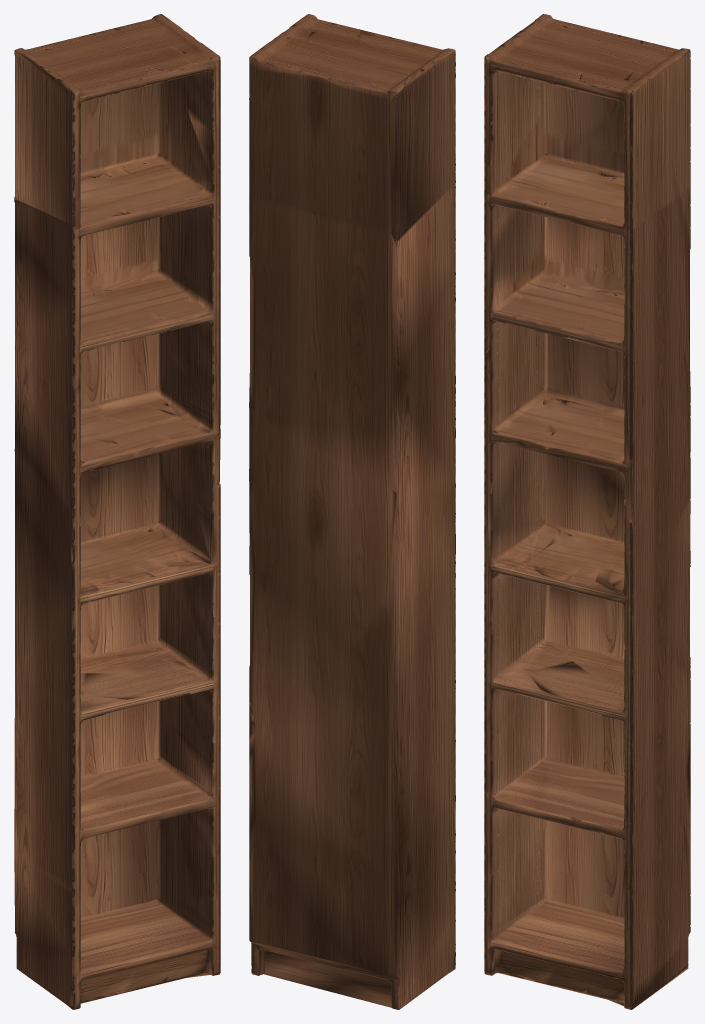
Rendered from meshy-ikea-09581891.glb.
3 renders of one model, left to right at view 1: azimuth 30°, elevation 25°; view 2: azimuth 150°, elevation 25°; view 3: azimuth 330°, elevation 25°, orthographic.
Visible parts, largest first — view 1: Exact catalog scale: ikea-09581891; view 2: Exact catalog scale: ikea-09581891; view 3: Exact catalog scale: ikea-09581891.
Part boxes in pixels (x1,y1,x2,y2): Exact catalog scale: ikea-09581891: [14, 14, 220, 1009]; Exact catalog scale: ikea-09581891: [249, 14, 455, 1009]; Exact catalog scale: ikea-09581891: [484, 14, 690, 1009].
Bounding box in the file's own units: 0.4 × 2.37 × 0.279.
1 material, 1 textured.
